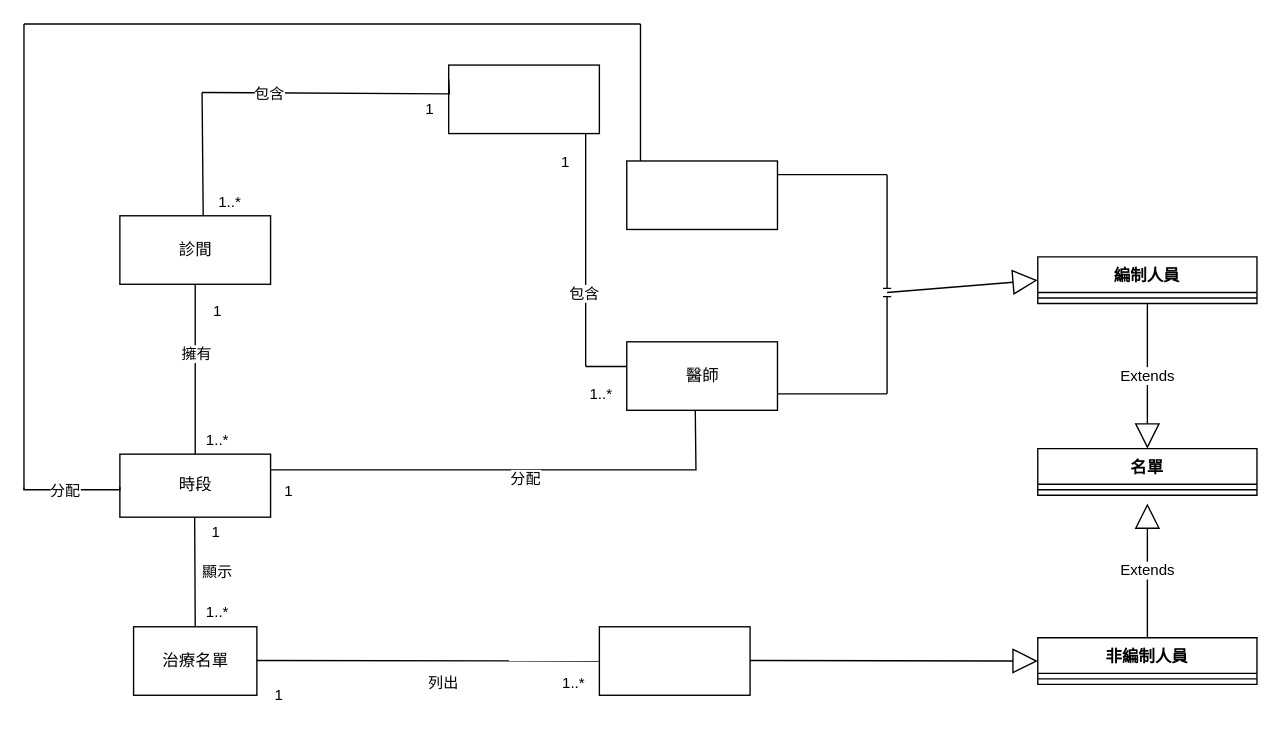
Image size: 1281x729. Some labels were removed from this diagram. The centre of each missing label's shape, as x and y in pixels:
病人: (674,660)
護理師: (701,194)
非西醫院: (523,99)
